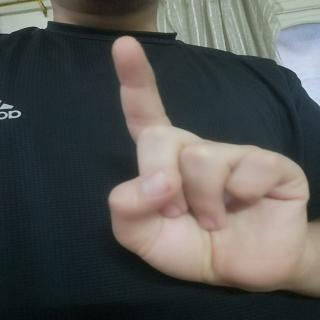BAA: (84, 25, 320, 293)
